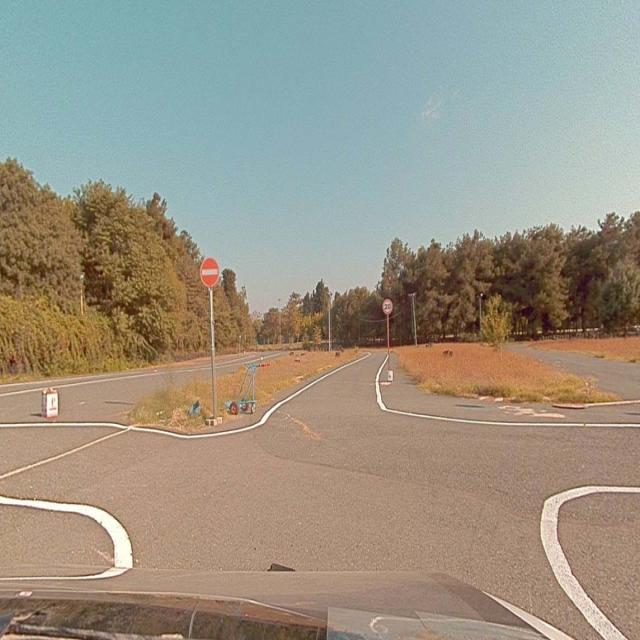20: (382, 298, 392, 314)
girisyok: (200, 258, 220, 286)
